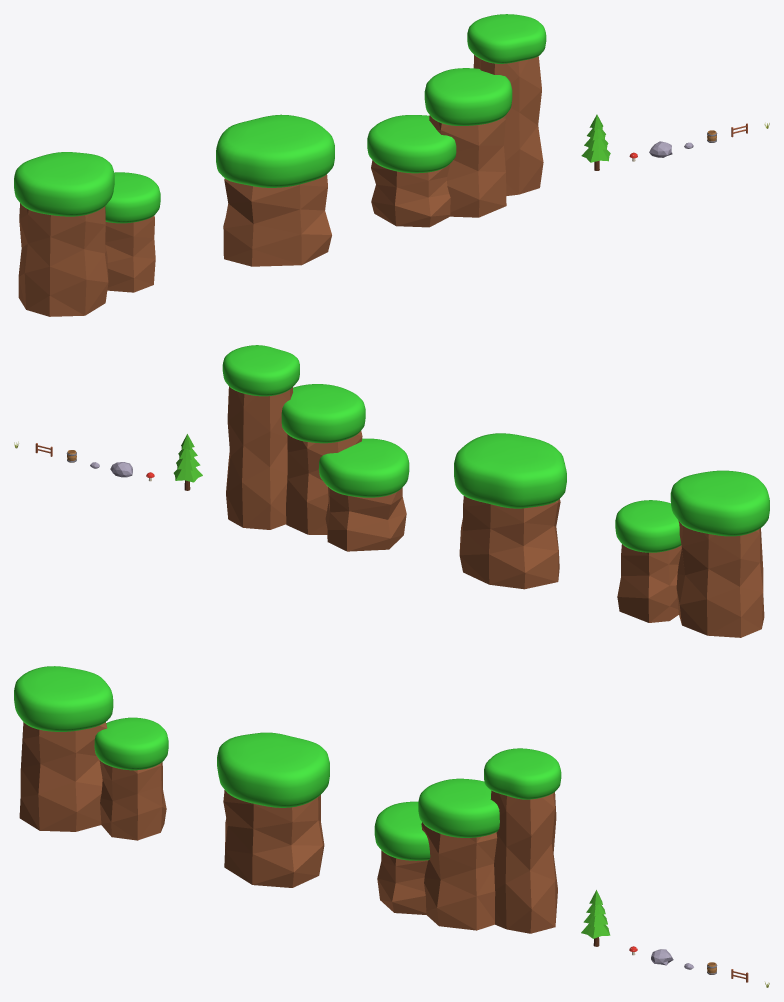
The model's file is HillKit.fbx.
The picture shows the model from 3 angles, top to bottom: view 1: azimuth 30°, elevation 25°; view 2: azimuth 150°, elevation 25°; view 3: azimuth 330°, elevation 25°; orthographic projection.
Visible parts, largest first — view 1: CliffC-Rock_A9653F, CliffA-Rock_A9653F, CliffC-Grass_3FE23A, CliffB-Rock_A9653F, CliffA-Grass_3FE23A, CliffB-Grass_3FE23A, Pine-Leaves_4CBF2E; view 2: CliffC-Rock_A9653F, CliffA-Rock_A9653F, CliffC-Grass_3FE23A, CliffA-Grass_3FE23A, CliffB-Rock_A9653F, CliffB-Grass_3FE23A, Pine-Leaves_4CBF2E; view 3: CliffC-Rock_A9653F, CliffA-Rock_A9653F, CliffC-Grass_3FE23A, CliffA-Grass_3FE23A, CliffB-Rock_A9653F, CliffB-Grass_3FE23A, Pine-Leaves_4CBF2E.
Boxes of the visible parts, bbox=[...] form: CliffC-Rock_A9653F: bbox=[371, 55, 543, 227]; CliffA-Rock_A9653F: bbox=[18, 203, 155, 316]; CliffC-Grass_3FE23A: bbox=[367, 14, 546, 173]; CliffB-Rock_A9653F: bbox=[223, 174, 331, 266]; CliffA-Grass_3FE23A: bbox=[14, 152, 160, 223]; CliffB-Grass_3FE23A: bbox=[216, 114, 334, 187]; Pine-Leaves_4CBF2E: bbox=[581, 114, 610, 162]; CliffC-Rock_A9653F: bbox=[226, 386, 406, 551]; CliffA-Rock_A9653F: bbox=[617, 520, 764, 637]; CliffC-Grass_3FE23A: bbox=[222, 345, 409, 497]; CliffA-Grass_3FE23A: bbox=[615, 470, 769, 552]; CliffB-Rock_A9653F: bbox=[459, 496, 560, 589]; CliffB-Grass_3FE23A: bbox=[454, 433, 566, 508]; Pine-Leaves_4CBF2E: bbox=[173, 434, 202, 482]; CliffC-Rock_A9653F: bbox=[377, 790, 557, 933]; CliffA-Rock_A9653F: bbox=[19, 722, 166, 840]; CliffC-Grass_3FE23A: bbox=[374, 748, 561, 860]; CliffA-Grass_3FE23A: bbox=[14, 666, 168, 770]; CliffB-Rock_A9653F: bbox=[223, 790, 324, 887]; CliffB-Grass_3FE23A: bbox=[217, 732, 329, 807]; Pine-Leaves_4CBF2E: bbox=[581, 890, 610, 938].
Bounding box in the file's own units: 163 × 32.7 × 19.95.
